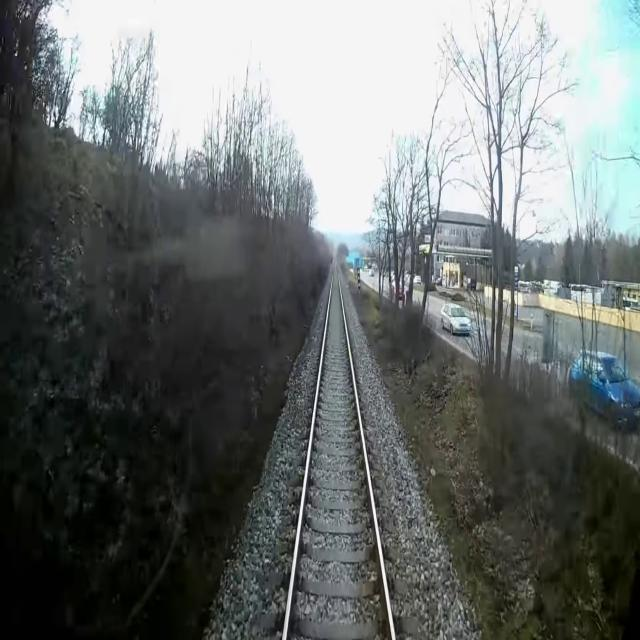rail-track: (287, 261, 391, 639)
